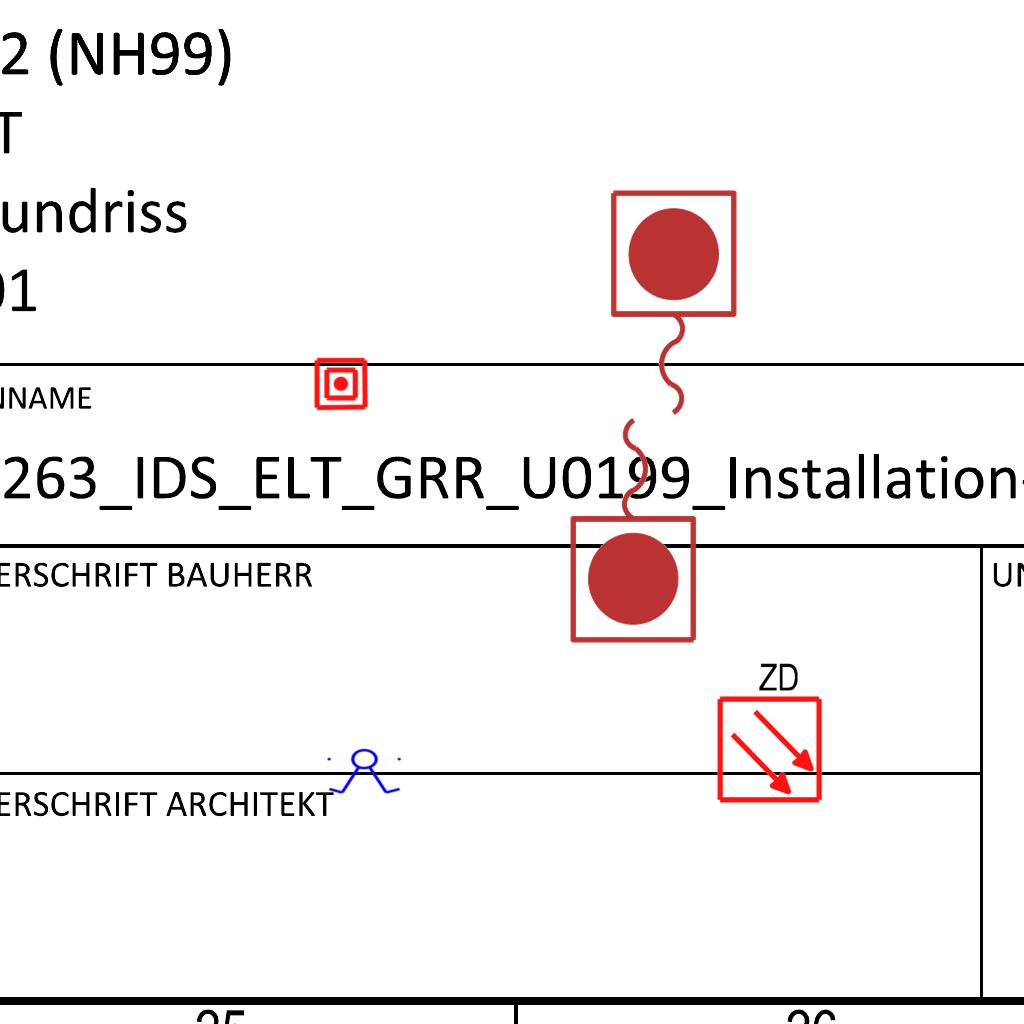NAM-Nichtautomatischer_Melder: (313, 356, 369, 412)
Serienschalter: (323, 748, 407, 796)
ZD_Melder_in_Zwischendecke_mit_Revisionsoeffnung_mind_40_x_40_cm: (711, 656, 825, 805)
Zugtaster: (600, 182, 744, 426), (563, 407, 707, 651)
